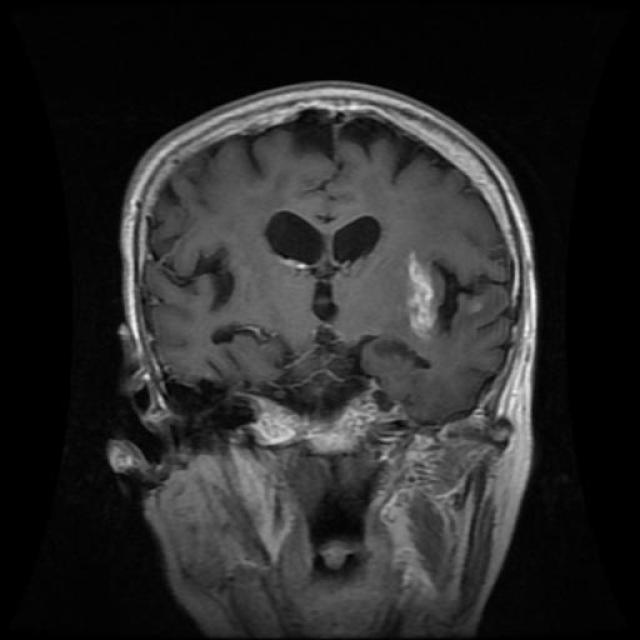glioma: (266, 210, 388, 331), (405, 249, 466, 345)
